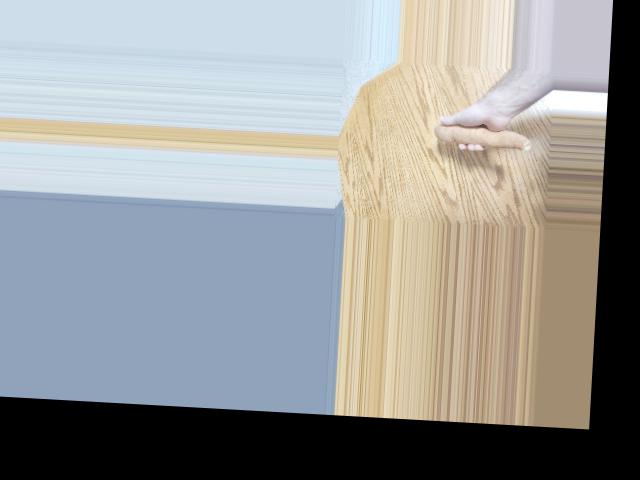sweet_potato: (437, 115, 534, 150)
